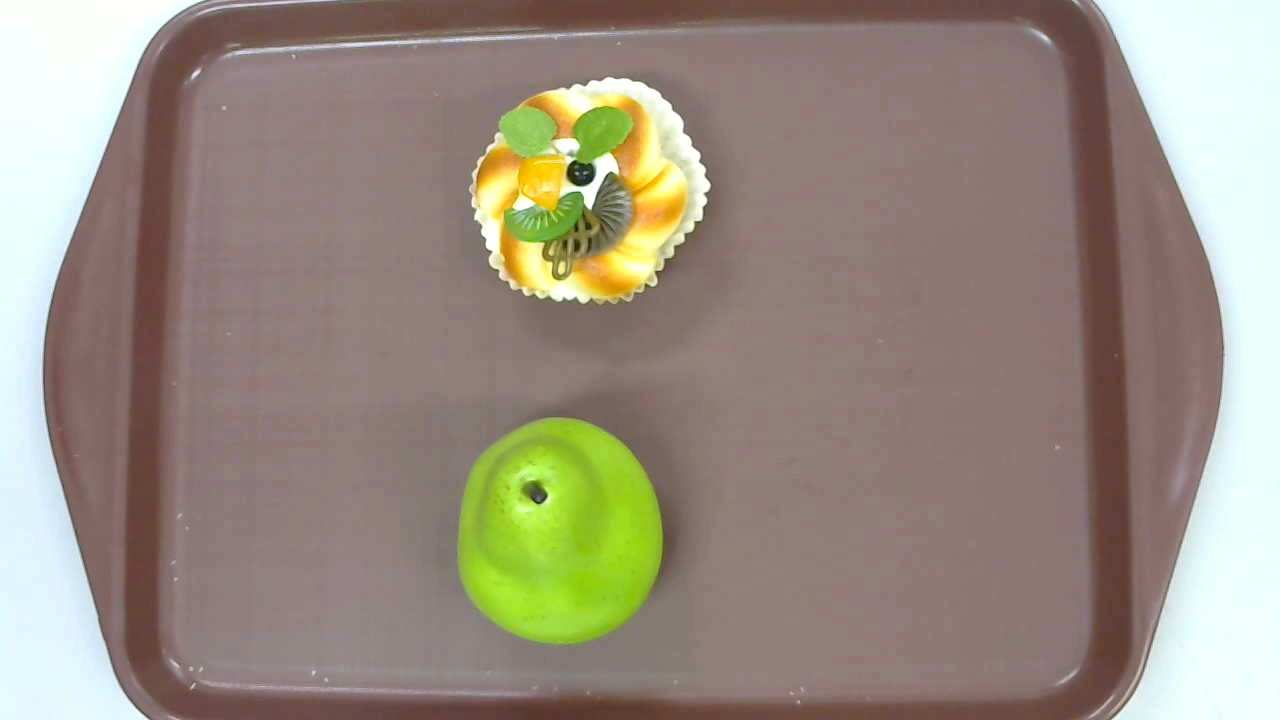fruit tart: (467, 76, 712, 305)
green pear: (457, 416, 664, 644)
